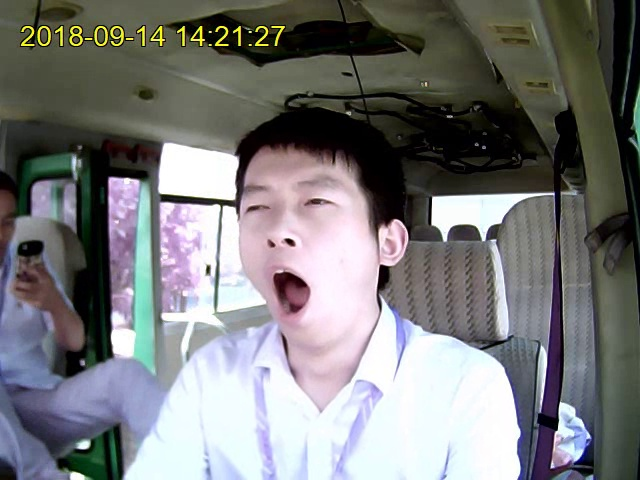open_mouth: (264, 262, 312, 327)
